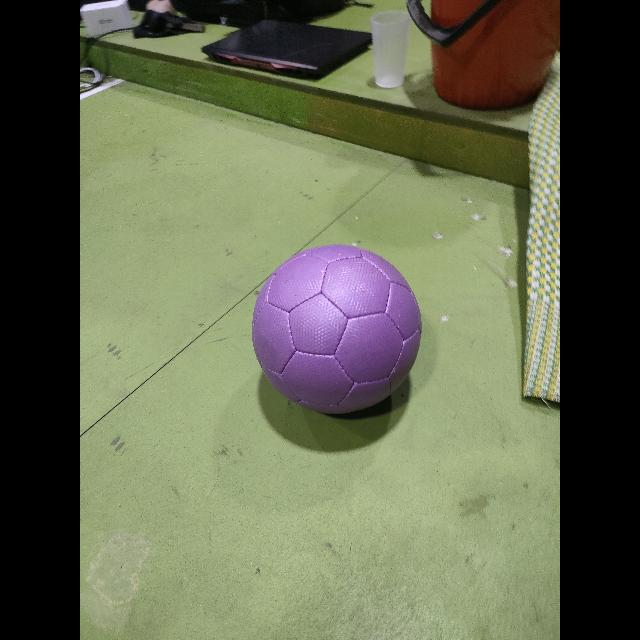P: (253, 244, 421, 413)
